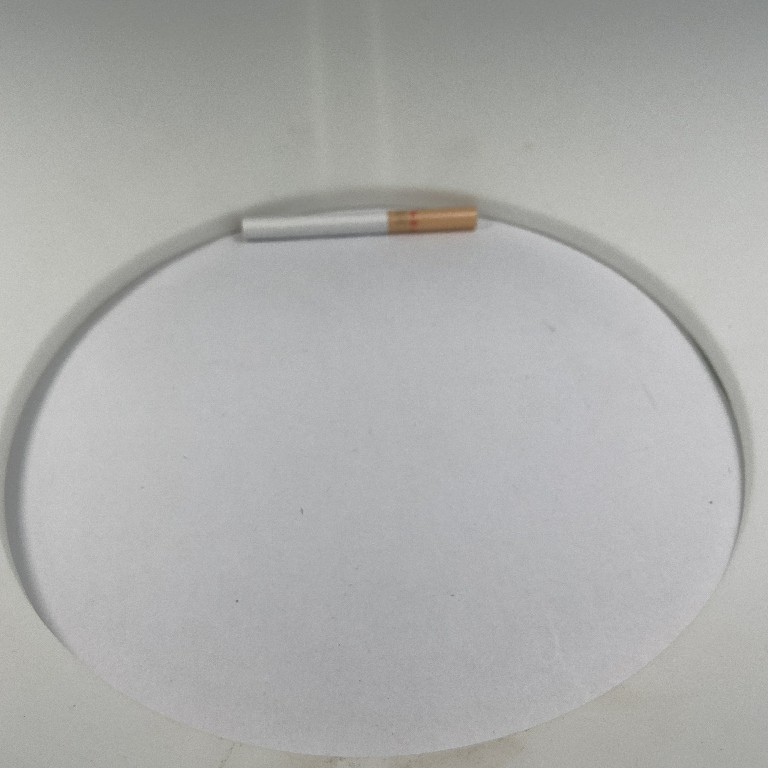cigarette: (234, 202, 484, 242)
